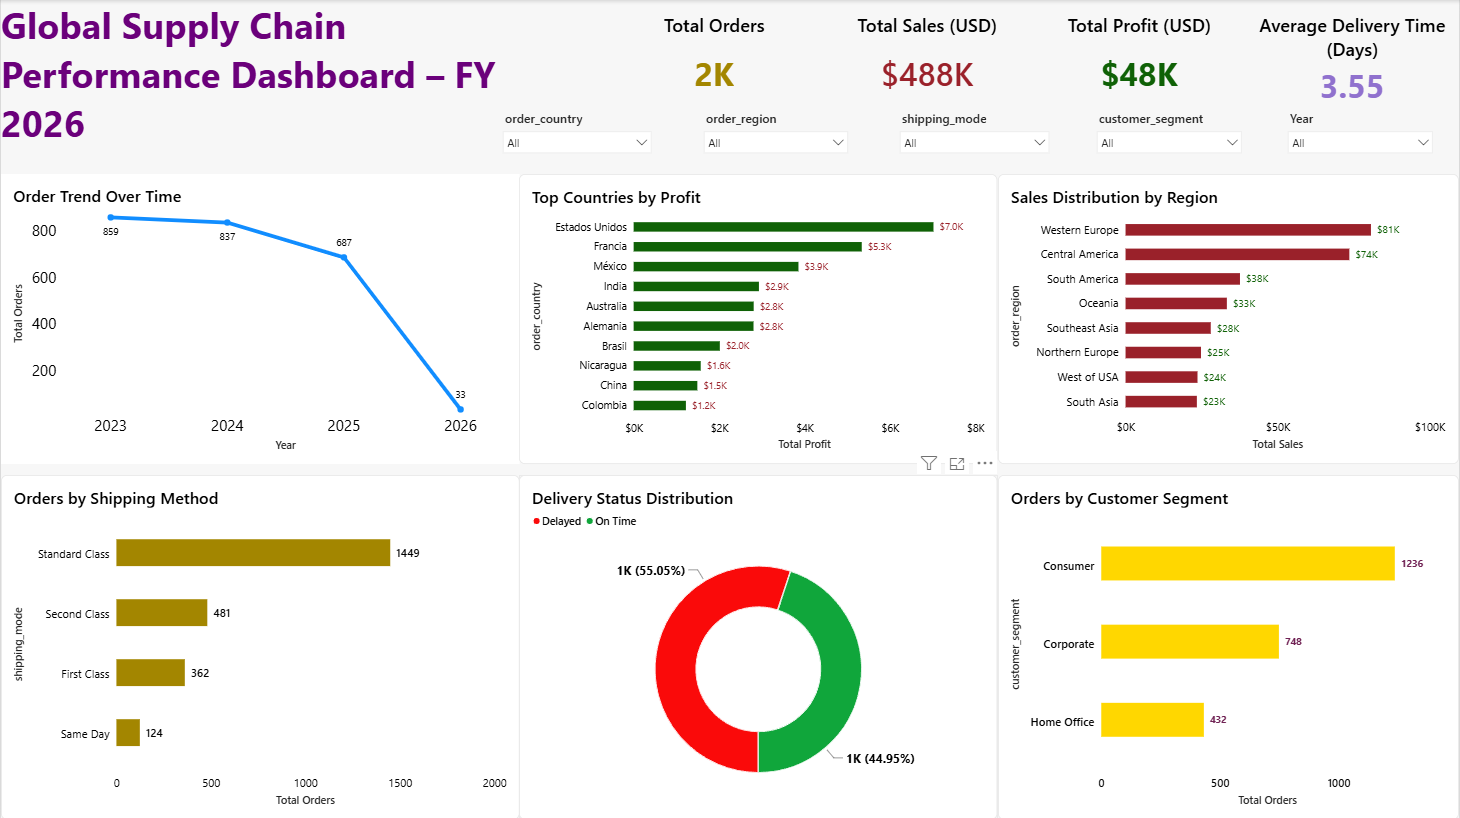

The dashboard page shown, as its layout file describes it:
{"tool":"powerbi","page":{"name":"Dashboard","canvas":[1920,1080],"ordinal":0},"visuals":[{"type":"cardVisual","title":"Total Orders","fields":{"Data":["supply_chain_final sql.Total Orders"]},"box":[799.5,16,280.1,119.6],"z":0},{"type":"cardVisual","title":"Total Sales (USD)","fields":{"Data":["supply_chain_final sql.Total Sales"]},"box":[1079.6,16,280.1,119.6],"z":1000},{"type":"cardVisual","title":"Total Profit (USD)","fields":{"Data":["supply_chain_final sql.Total Profit"]},"box":[1359.8,16,280.1,119.6],"z":2000},{"type":"cardVisual","title":"Average Delivery Time (Days)","fields":{"Data":["supply_chain_final sql.Avg Delivery Days"]},"box":[1639.9,16,280.1,119.6],"z":3000},{"type":"lineChart","title":"Order Trend Over Time","fields":{"Category":["supply_chain_final sql.order_date.Variation.Date Hierarchy.Year","supply_chain_final sql.order_date.Variation.Date Hierarchy.Quarter","supply_chain_final sql.order_date.Variation.Date Hierarchy.Month","supply_chain_final sql.order_date.Variation.Date Hierarchy.Day"],"Y":["supply_chain_final sql.Total Orders"]},"box":[0,229.1,682.8,382.2],"z":4000},{"type":"clusteredBarChart","title":"Top Countries by Profit","fields":{"Category":["supply_chain_final sql.order_country"],"Y":["supply_chain_final sql.Total Profit"]},"box":[682.8,229.1,630.3,382.2],"z":5000},{"type":"clusteredBarChart","title":"Sales Distribution by Region","fields":{"Category":["supply_chain_final sql.order_region"],"Y":["supply_chain_final sql.Total Sales"]},"box":[1313.1,229.1,606.9,382.2],"z":6000},{"type":"clusteredBarChart","title":"Orders by Shipping Method","fields":{"Category":["supply_chain_final sql.shipping_mode"],"Y":["supply_chain_final sql.Total Orders"]},"box":[0,625.9,682.8,453.7],"z":7000},{"type":"donutChart","title":"Delivery Status Distribution","fields":{"Category":["supply_chain_final sql.delay_status"],"Y":["supply_chain_final sql.Total Orders"]},"box":[682.8,625.9,630.3,453.7],"z":8000},{"type":"clusteredBarChart","title":"Orders by Customer Segment","fields":{"Category":["supply_chain_final sql.customer_segment"],"Y":["supply_chain_final sql.Total Orders"]},"box":[1313.1,625.9,606.9,453.7],"z":9000},{"type":"textbox","box":[0,0,744.1,213],"z":10000},{"type":"slicer","fields":{"Values":["supply_chain_final sql.order_country"]},"box":[656.5,144.4,205.7,68.6],"z":11000},{"type":"slicer","fields":{"Values":["supply_chain_final sql.order_region"]},"box":[920.6,144.4,199.9,70],"z":12000},{"type":"slicer","fields":{"Values":["supply_chain_final sql.shipping_mode"]},"box":[1178.8,144.4,207.2,68.6],"z":13000},{"type":"slicer","fields":{"Values":["supply_chain_final sql.customer_segment"]},"box":[1438.5,144.4,201.3,70],"z":14000},{"type":"slicer","fields":{"Values":["supply_chain_final sql.order_date.Variation.Date Hierarchy.Year"]},"box":[1689.5,144.4,201.3,68.6],"z":15000}]}

Visuals, with their boxes in screenshot pixels (x1, y1, x2, y2), scaled from the page's 1920x1080 canvas onto the 1460x818 screenshot:
"Total Orders" cardVisual: <bbox>608, 12, 821, 103</bbox>
"Total Sales (USD)" cardVisual: <bbox>821, 12, 1034, 103</bbox>
"Total Profit (USD)" cardVisual: <bbox>1034, 12, 1247, 103</bbox>
"Average Delivery Time (Days)" cardVisual: <bbox>1247, 12, 1459, 103</bbox>
"Order Trend Over Time" lineChart: <bbox>0, 174, 519, 463</bbox>
"Top Countries by Profit" clusteredBarChart: <bbox>519, 174, 999, 463</bbox>
"Sales Distribution by Region" clusteredBarChart: <bbox>999, 174, 1459, 463</bbox>
"Orders by Shipping Method" clusteredBarChart: <bbox>0, 474, 519, 817</bbox>
"Delivery Status Distribution" donutChart: <bbox>519, 474, 999, 817</bbox>
"Orders by Customer Segment" clusteredBarChart: <bbox>999, 474, 1459, 817</bbox>
textbox: <bbox>0, 0, 566, 161</bbox>
slicer - supply_chain_final sql.order_country: <bbox>499, 109, 656, 161</bbox>
slicer - supply_chain_final sql.order_region: <bbox>700, 109, 852, 162</bbox>
slicer - supply_chain_final sql.shipping_mode: <bbox>896, 109, 1054, 161</bbox>
slicer - supply_chain_final sql.customer_segment: <bbox>1094, 109, 1247, 162</bbox>
slicer - supply_chain_final sql.order_date.Variation.Date Hierarchy.Year: <bbox>1285, 109, 1438, 161</bbox>
